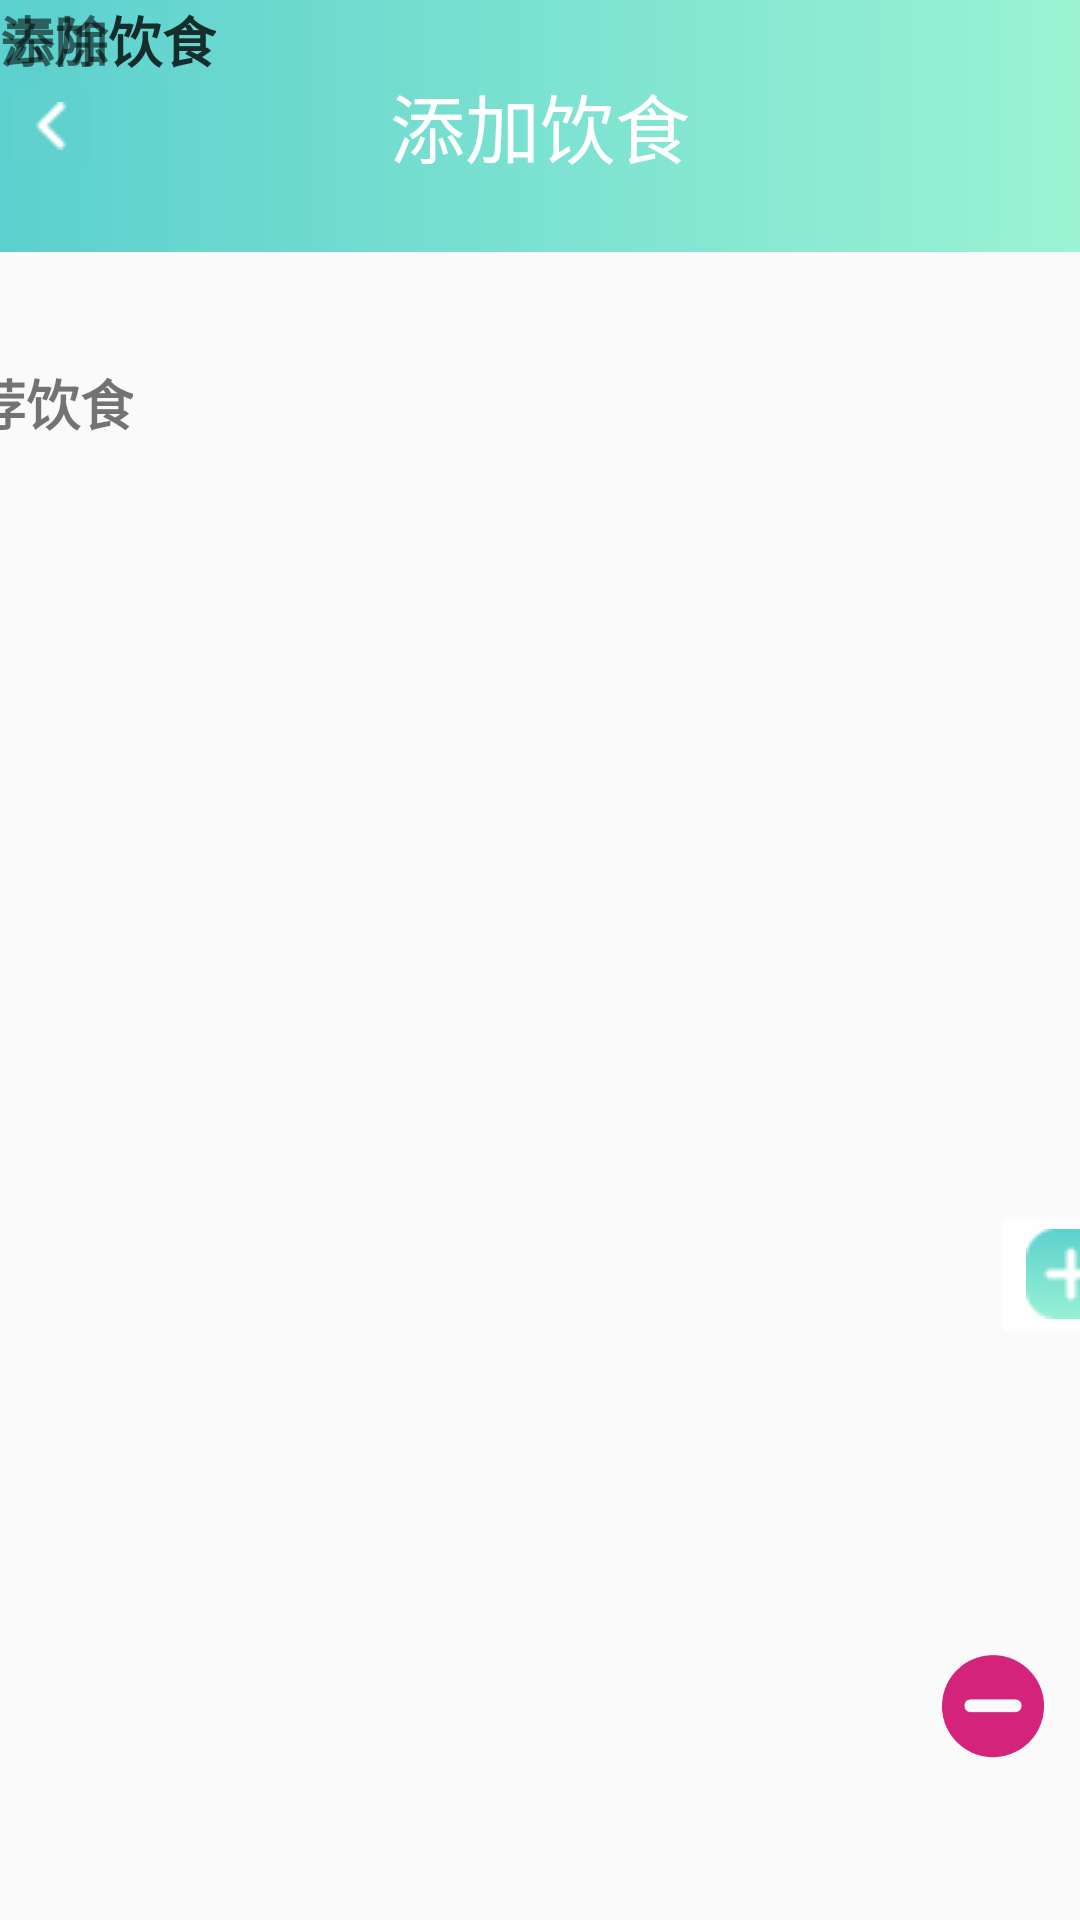

Named icons in this screenshot (1080*1920) and their bounding boxes, detection(x1, y1, x2, y2):
remove: detection(942, 1655, 1044, 1758)
